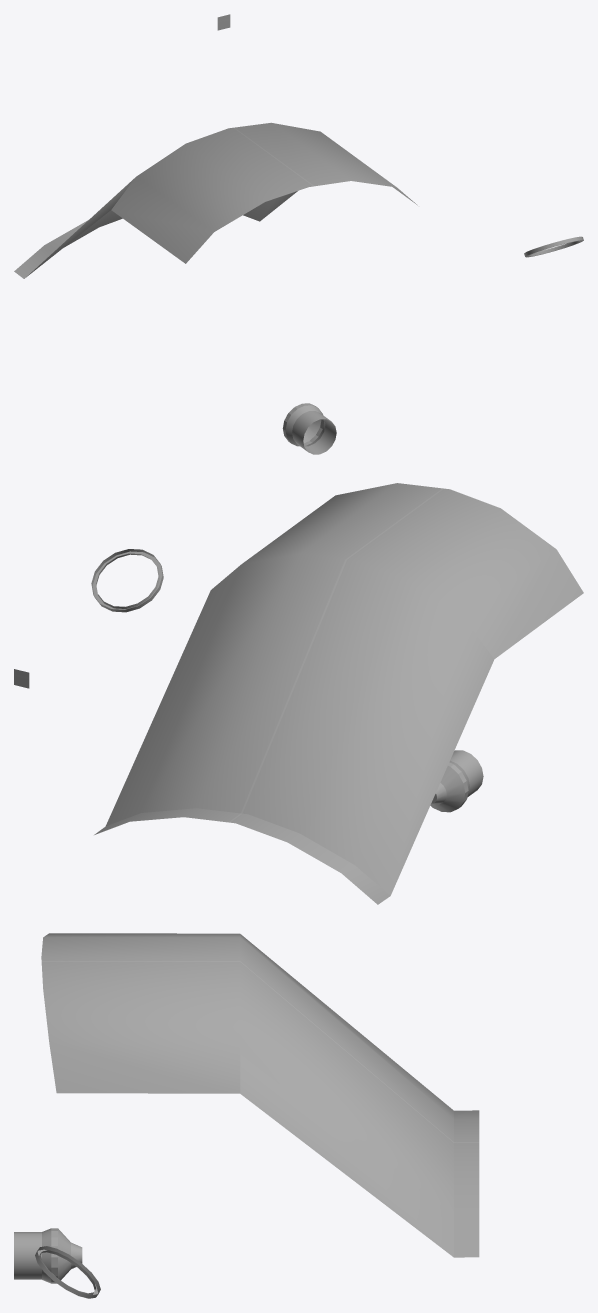
File: CoffeeMachine_28_CoffeeMachine_28_0_GeomSubset_2.obj
3 renders of one model, top to bottom at view 1: azimuth 30°, elevation 25°; view 2: azimuth 150°, elevation 25°; view 3: azimuth 270°, elevation 25°, orthographic. The views are drawn at different scales.
Visible parts, largest first — view 1: CoffeeMachine_28_CoffeeMachine_28_0_GeomSubset_2; view 2: CoffeeMachine_28_CoffeeMachine_28_0_GeomSubset_2; view 3: CoffeeMachine_28_CoffeeMachine_28_0_GeomSubset_2.
Boxes of the visible parts, x1,y1,x2,y2 form: CoffeeMachine_28_CoffeeMachine_28_0_GeomSubset_2: [14, 14, 583, 454]; CoffeeMachine_28_CoffeeMachine_28_0_GeomSubset_2: [14, 483, 583, 904]; CoffeeMachine_28_CoffeeMachine_28_0_GeomSubset_2: [14, 933, 479, 1298].
Size of the model in its own units: 0.316 by 0.1976 by 0.3154.
